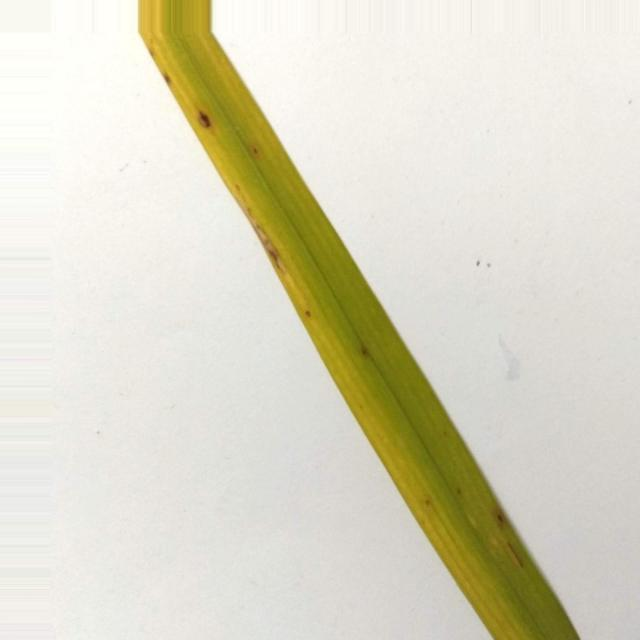Brown_Spot: (251, 221, 282, 266), (504, 535, 525, 569), (249, 144, 275, 165), (489, 506, 506, 528), (495, 509, 510, 530), (162, 68, 176, 86), (199, 111, 211, 128), (362, 349, 370, 359), (528, 561, 536, 570), (305, 311, 310, 316), (176, 78, 180, 82)
